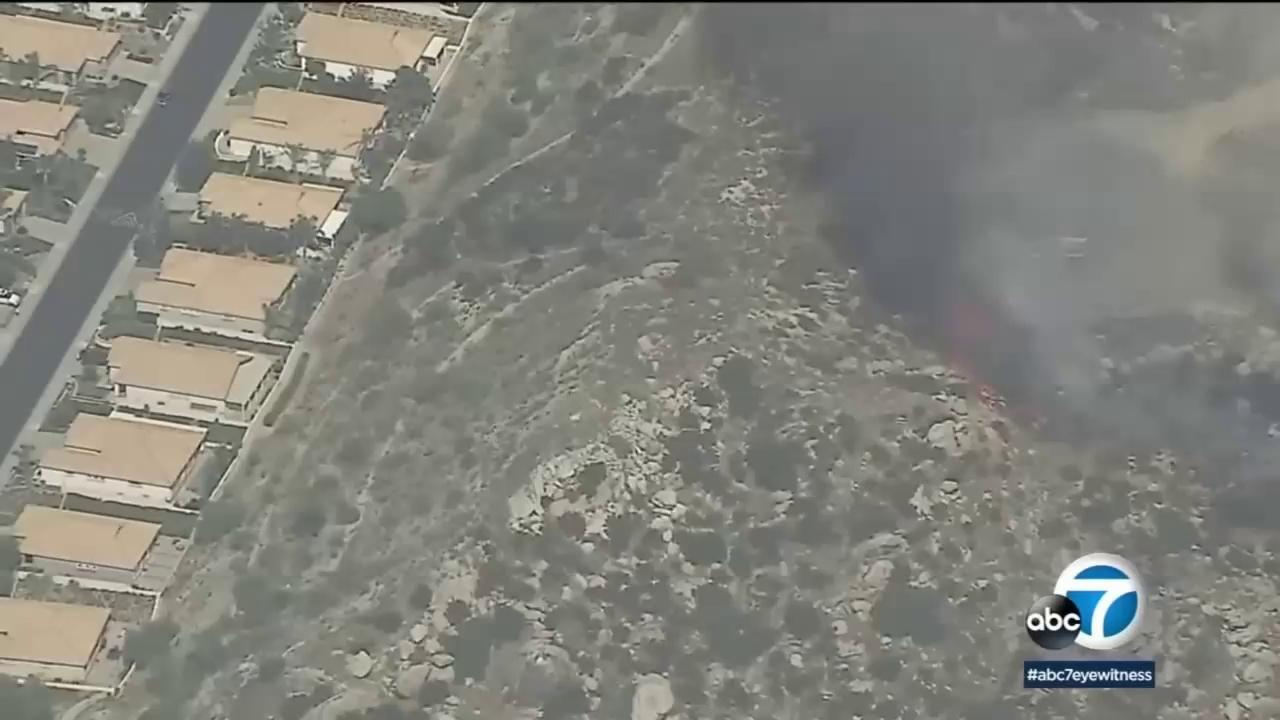smoke: (696, 3, 1280, 523)
